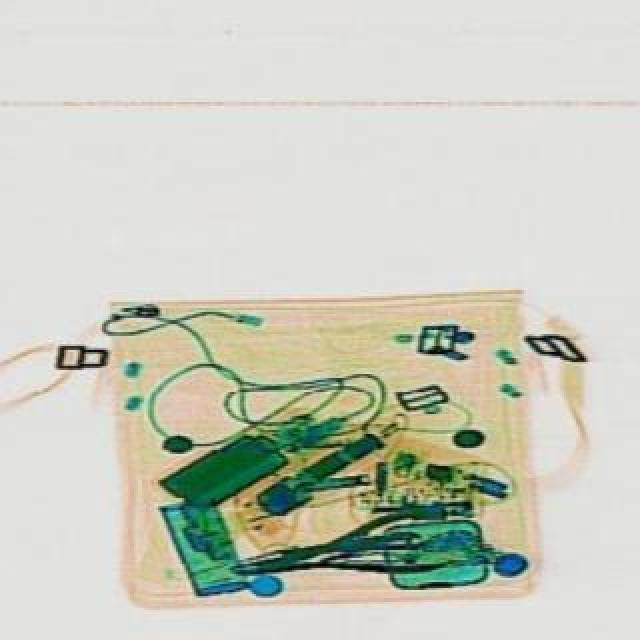wrench: (220, 500, 452, 600)
